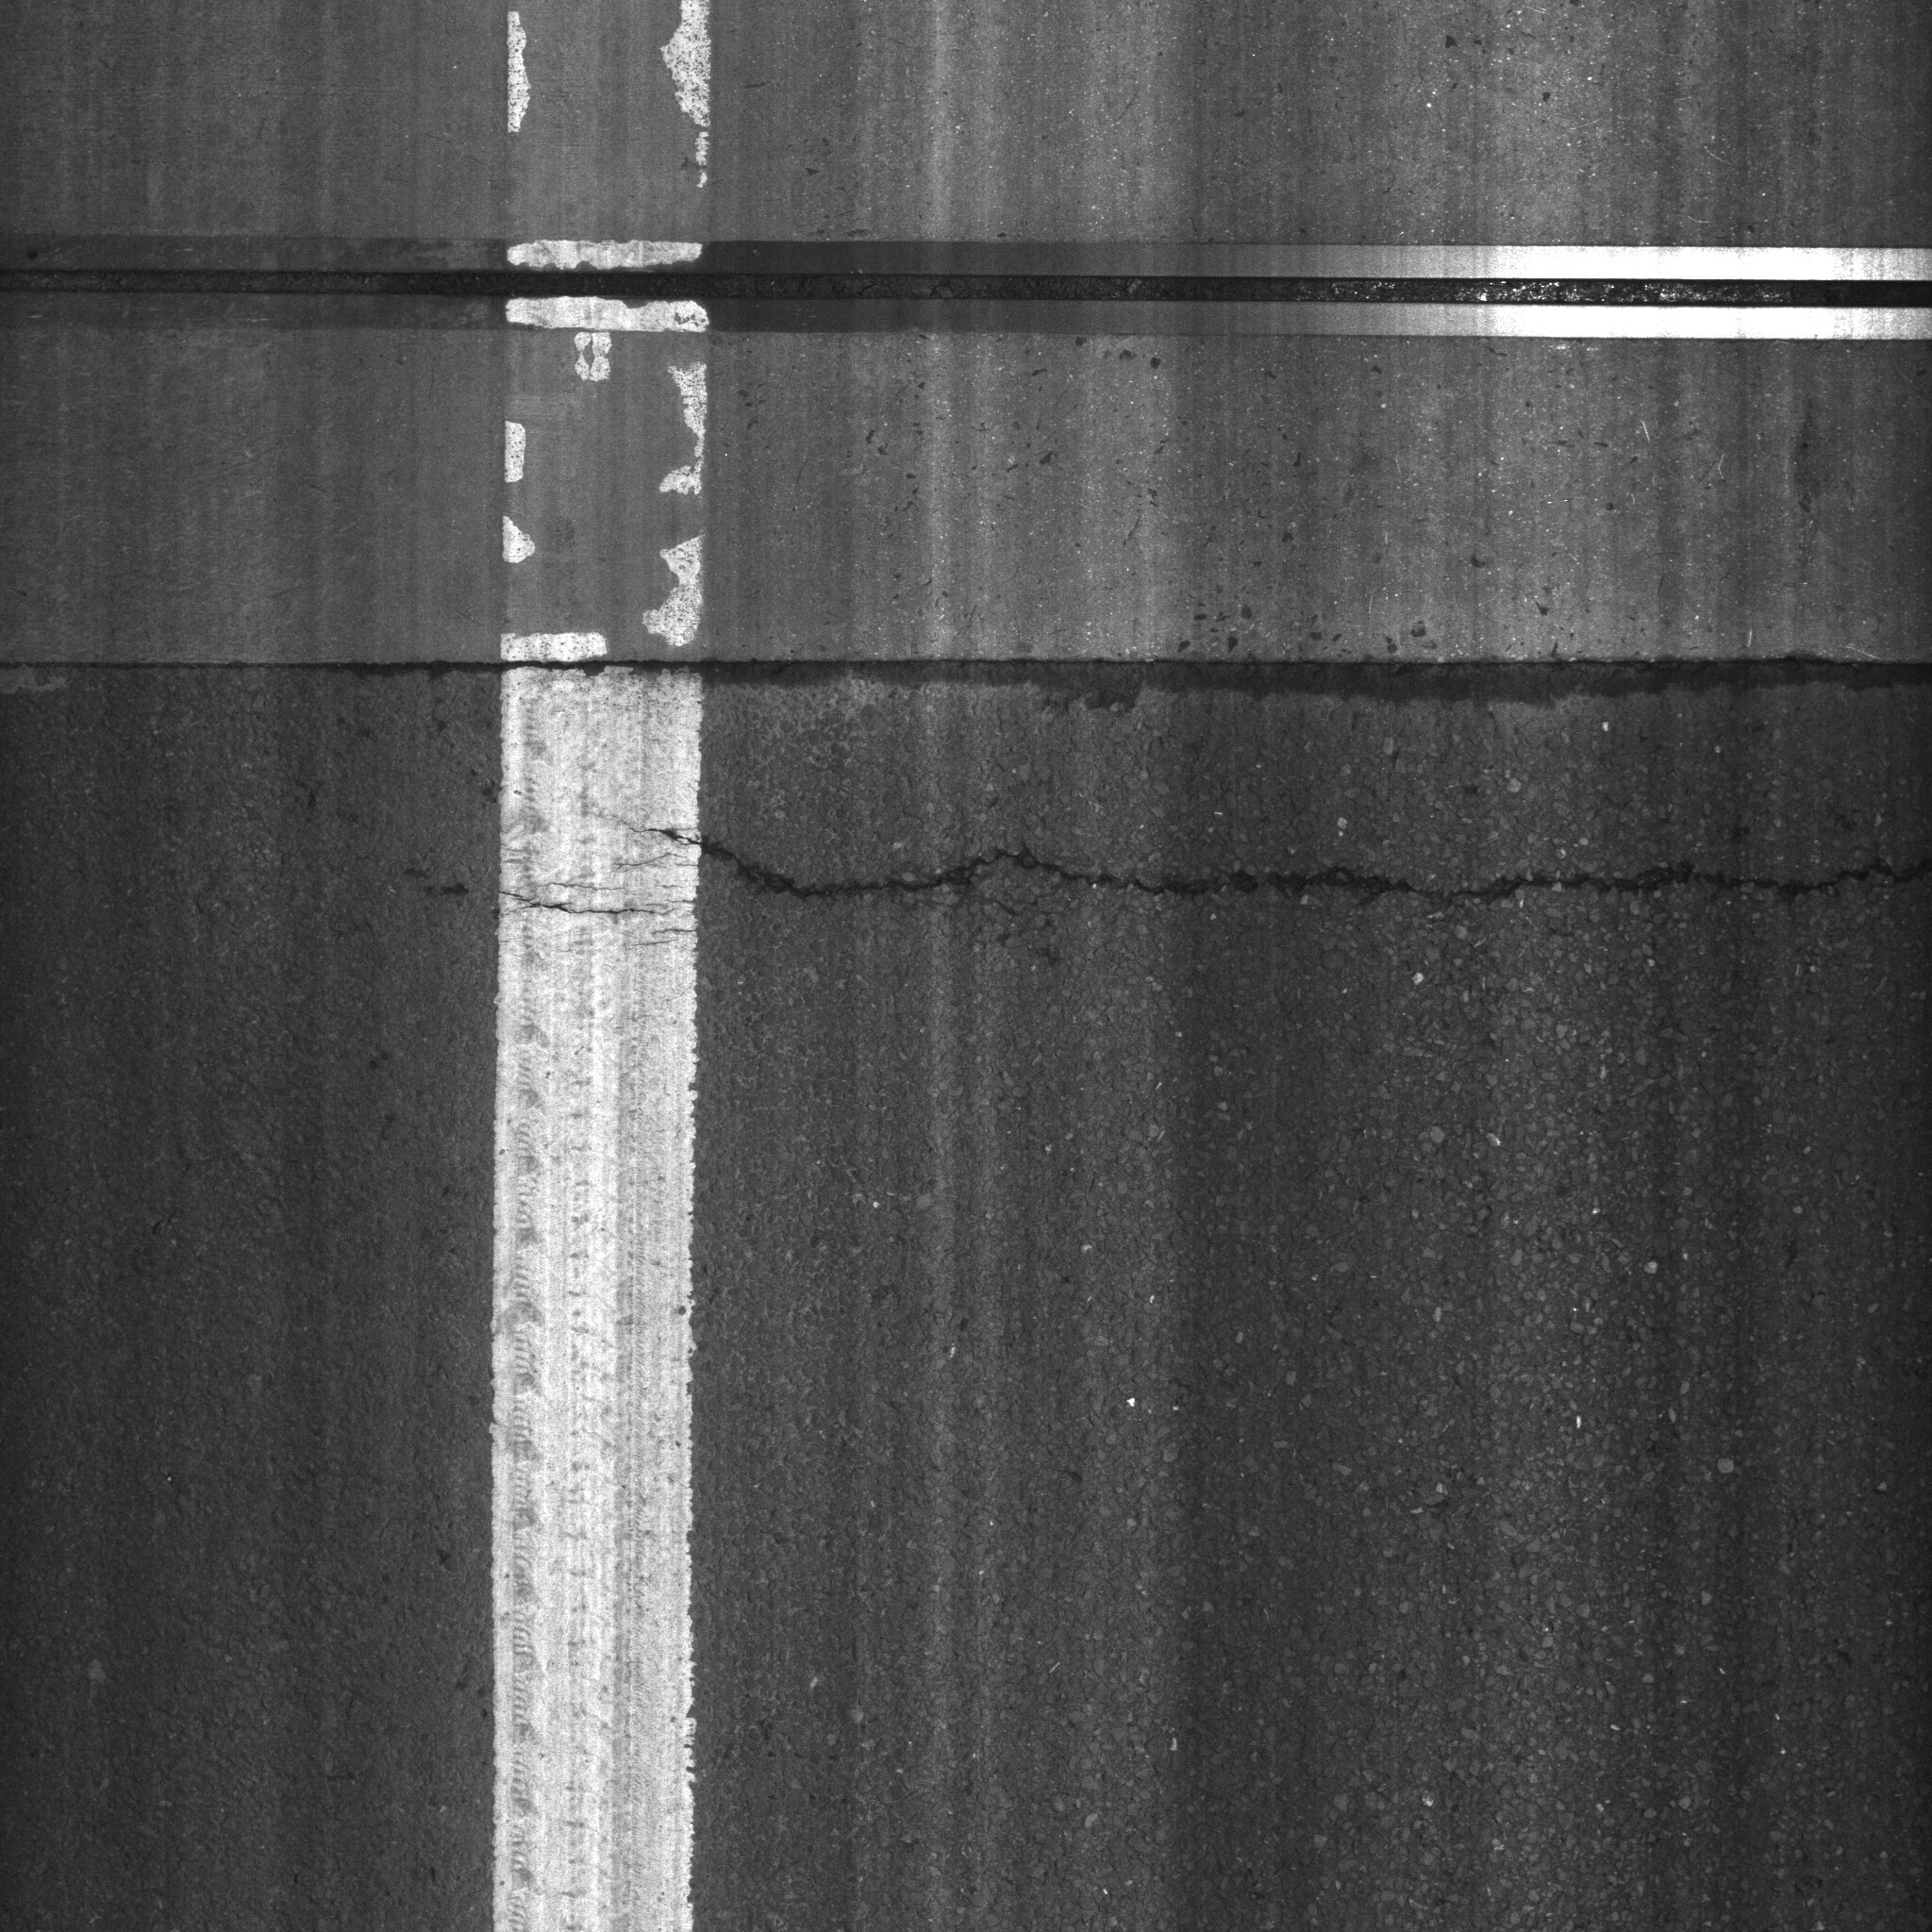transverse: (577, 715, 1932, 1003)
